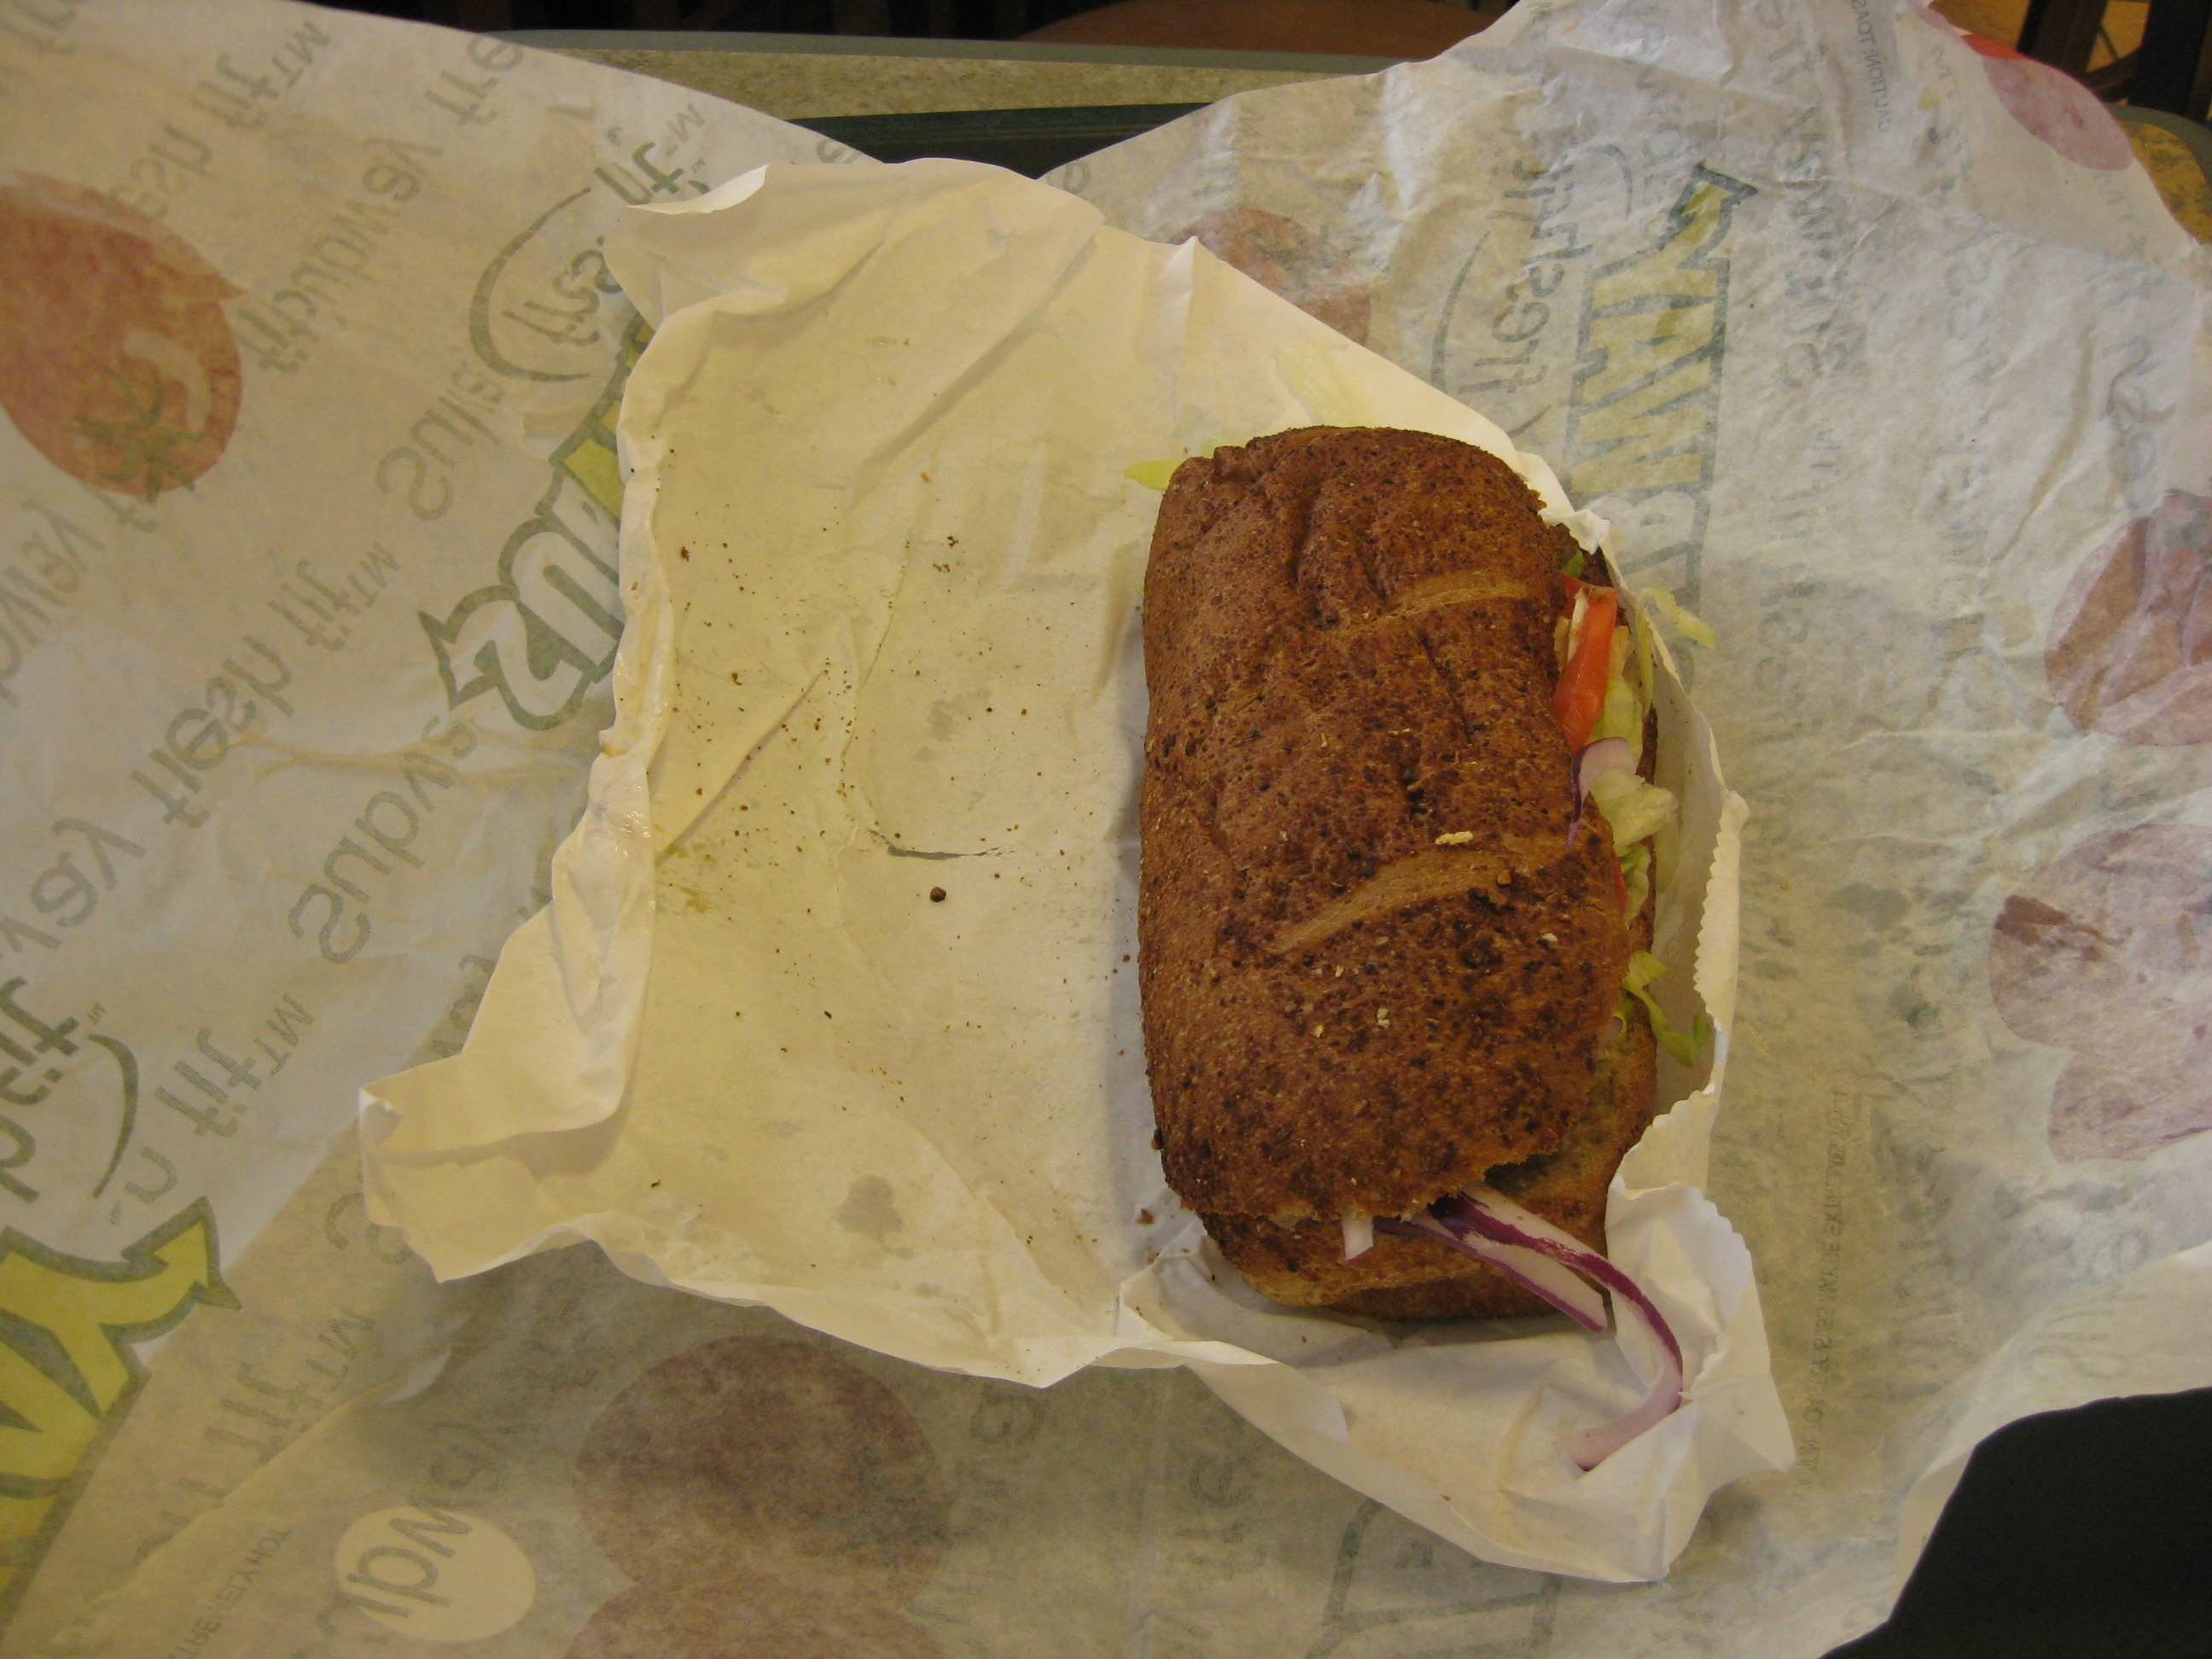sub: (1126, 432, 1668, 1392)
